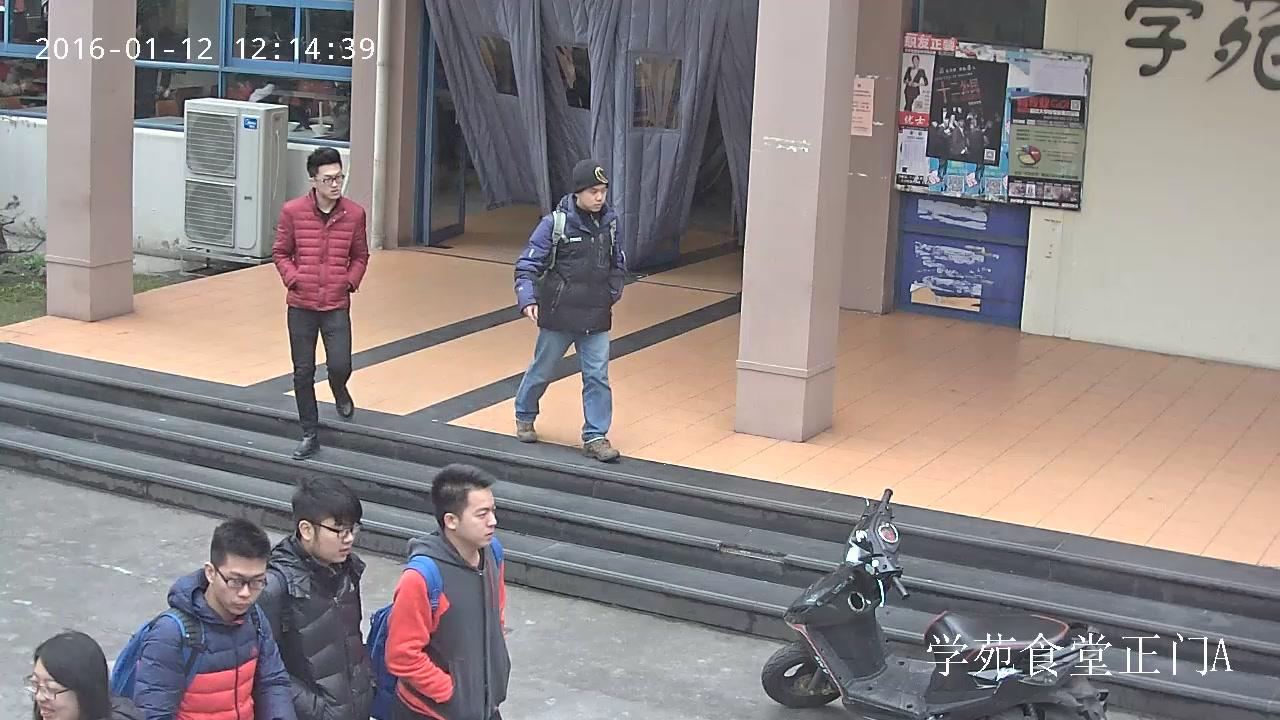person: (363, 463, 510, 720), (514, 159, 627, 462), (111, 518, 269, 720), (272, 147, 368, 457), (254, 473, 366, 720), (902, 54, 928, 112), (325, 87, 350, 142)
